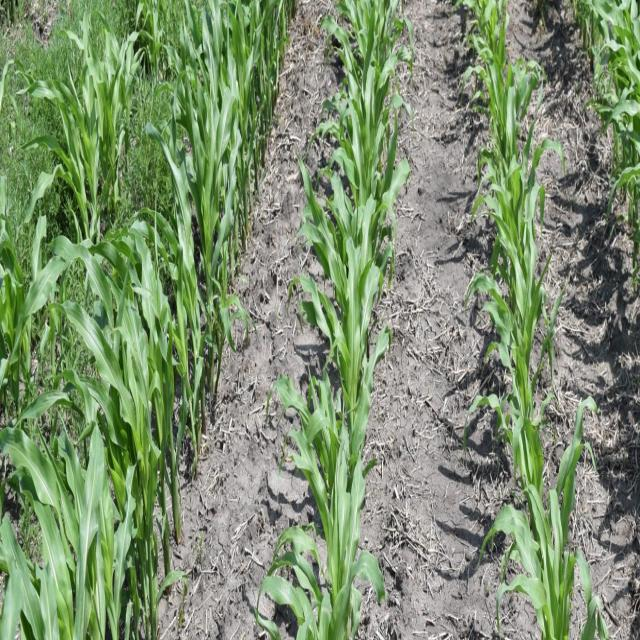row: (0, 0, 223, 633), (154, 0, 354, 640), (361, 0, 536, 639), (509, 0, 640, 639)
